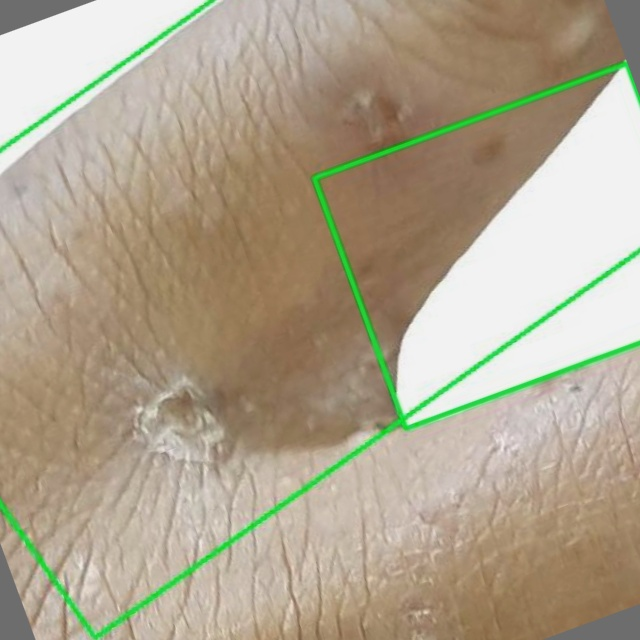Scabies: (0, 0, 639, 639), (314, 63, 639, 428)
